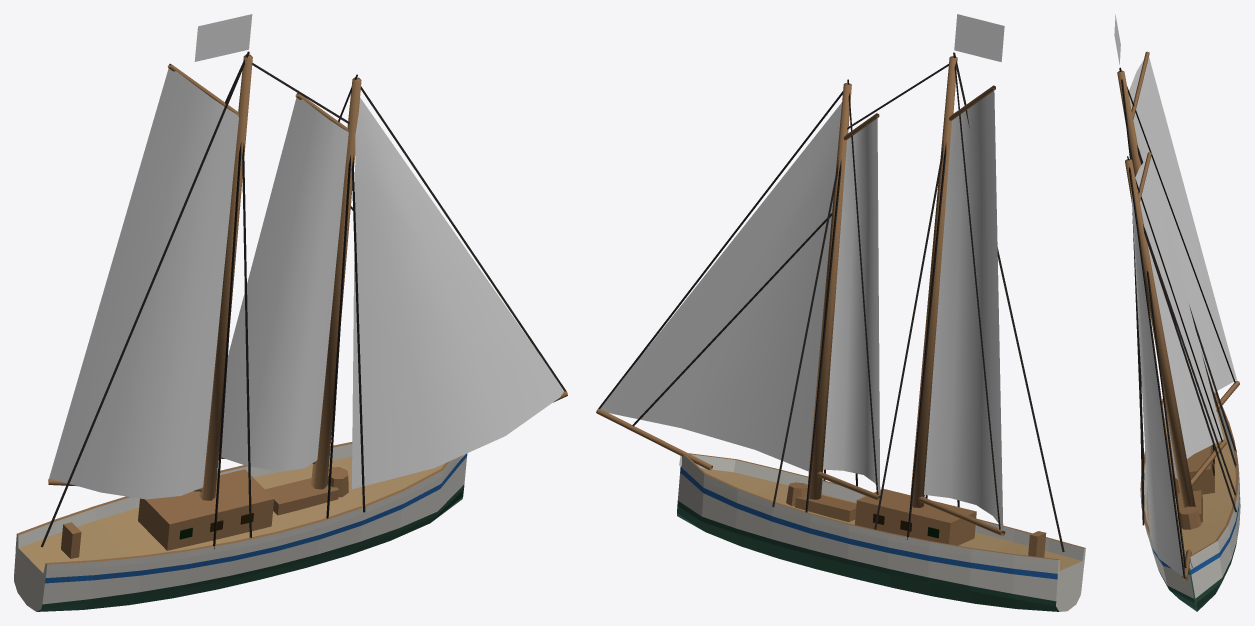
Rendered from hull_schooner_large_sailing.glb.
The picture shows the model from 3 angles, left to right: view 1: azimuth 30°, elevation 25°; view 2: azimuth 150°, elevation 25°; view 3: azimuth 270°, elevation 25°; orthographic projection. The views are drawn at different scales.
Visible parts, largest first — view 1: hull_schooner_large_sailing_sail_main, hull_schooner_large_sailing_sail_jib, hull_schooner_large_sailing_hull, hull_schooner_large_sailing_sail_0, hull_schooner_large_sailing_mast, hull_schooner_large_sailing_rigging, hull_schooner_large_sailing_deck, hull_schooner_large_sailing_deckgear, hull_schooner_large_sailing_flag; view 2: hull_schooner_large_sailing_sail_jib, hull_schooner_large_sailing_hull, hull_schooner_large_sailing_sail_main, hull_schooner_large_sailing_sail_0, hull_schooner_large_sailing_mast, hull_schooner_large_sailing_rigging, hull_schooner_large_sailing_deck, hull_schooner_large_sailing_deckgear, hull_schooner_large_sailing_flag; view 3: hull_schooner_large_sailing_sail_main, hull_schooner_large_sailing_sail_0, hull_schooner_large_sailing_hull, hull_schooner_large_sailing_sail_jib, hull_schooner_large_sailing_rigging, hull_schooner_large_sailing_mast, hull_schooner_large_sailing_deck, hull_schooner_large_sailing_deckgear, hull_schooner_large_sailing_boom.
Part boxes in pixels (box(x1,y1,x2,y2)): hull_schooner_large_sailing_sail_main: box(49, 66, 238, 499); hull_schooner_large_sailing_sail_jib: box(352, 97, 564, 489); hull_schooner_large_sailing_hull: box(14, 442, 467, 611); hull_schooner_large_sailing_sail_0: box(219, 95, 348, 471); hull_schooner_large_sailing_mast: box(167, 54, 567, 500); hull_schooner_large_sailing_rigging: box(41, 51, 566, 549); hull_schooner_large_sailing_deck: box(138, 469, 274, 550); hull_schooner_large_sailing_deckgear: box(61, 467, 348, 558); hull_schooner_large_sailing_flag: box(194, 14, 252, 61); hull_schooner_large_sailing_sail_jib: box(600, 102, 841, 471); hull_schooner_large_sailing_hull: box(677, 453, 1085, 611); hull_schooner_large_sailing_sail_main: box(924, 88, 1003, 529); hull_schooner_large_sailing_sail_0: box(823, 115, 880, 494); hull_schooner_large_sailing_mast: box(596, 56, 995, 507); hull_schooner_large_sailing_rigging: box(598, 52, 1064, 551); hull_schooner_large_sailing_deck: box(855, 489, 976, 545); hull_schooner_large_sailing_deckgear: box(786, 482, 1046, 557); hull_schooner_large_sailing_flag: box(954, 14, 1004, 62); hull_schooner_large_sailing_sail_main: box(1128, 57, 1236, 393); hull_schooner_large_sailing_sail_0: box(1135, 158, 1223, 479); hull_schooner_large_sailing_hull: box(1140, 392, 1240, 611); hull_schooner_large_sailing_sail_jib: box(1131, 187, 1183, 577); hull_schooner_large_sailing_rigging: box(1119, 67, 1236, 578); hull_schooner_large_sailing_mast: box(1117, 51, 1226, 580); hull_schooner_large_sailing_deck: box(1166, 434, 1214, 498); hull_schooner_large_sailing_deckgear: box(1178, 490, 1202, 529); hull_schooner_large_sailing_boom: box(1215, 380, 1239, 411).
Size of the model in its own units: 22 by 23.78 by 5.59.
